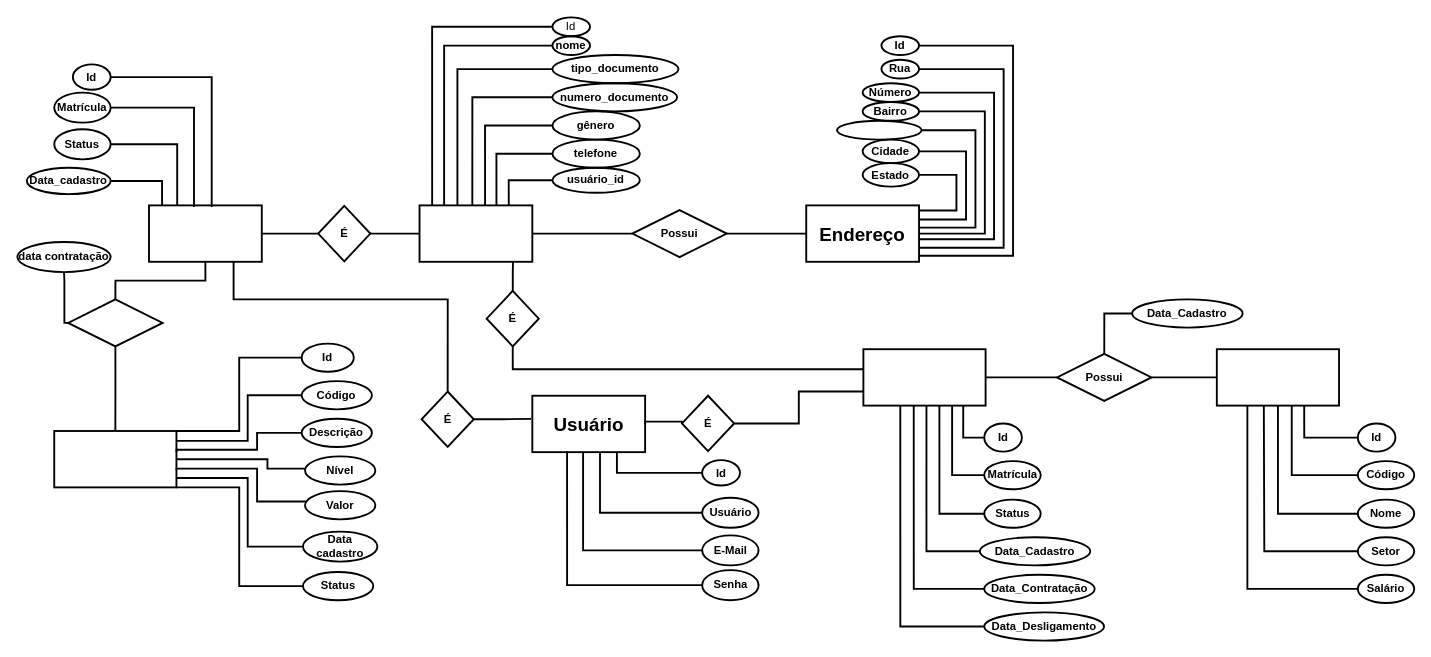
This 1431x657 diagram has some shape labels left out. The shapes that lost their labels are listed below. From the top down, each one's box as (x1, y1, x2, y2) in pixels, then its label:
(836, 119, 922, 140): Complemento
(148, 204, 262, 262): Aluno
(418, 204, 533, 262): Pessoa
(67, 298, 163, 347): Contrata
(862, 348, 986, 406): Funcionario
(1215, 348, 1340, 406): Cargo
(53, 430, 177, 488): Plano
